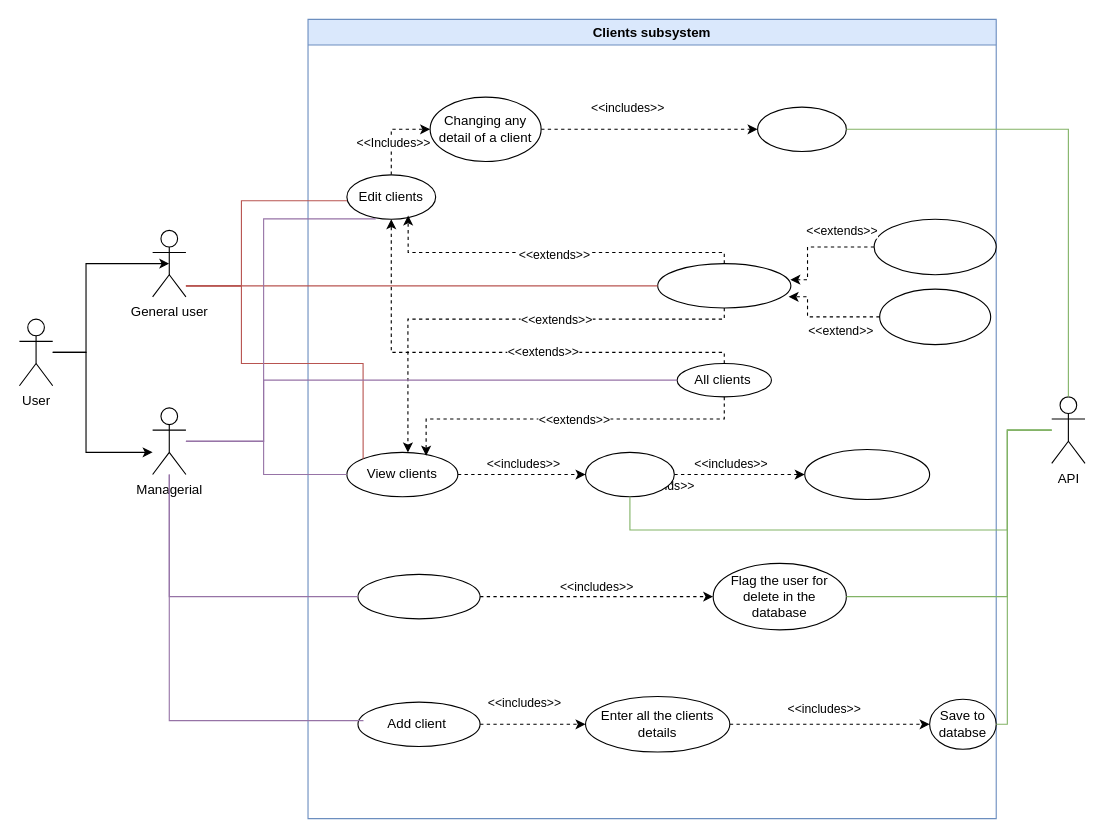
This 1104x838 diagram has some shape labels left out. The shapes that lost their labels are listed below. From the top down, each one's centre as x and y in pixels, then its label:
point (801, 129): Save to database
point (934, 246): All clients associated with jobs under me
point (724, 285): subset of clients
point (935, 316): All clients asociated with my jobs
point (629, 474): Retrieve information
point (867, 474): Display information
point (418, 596): Delete clients
